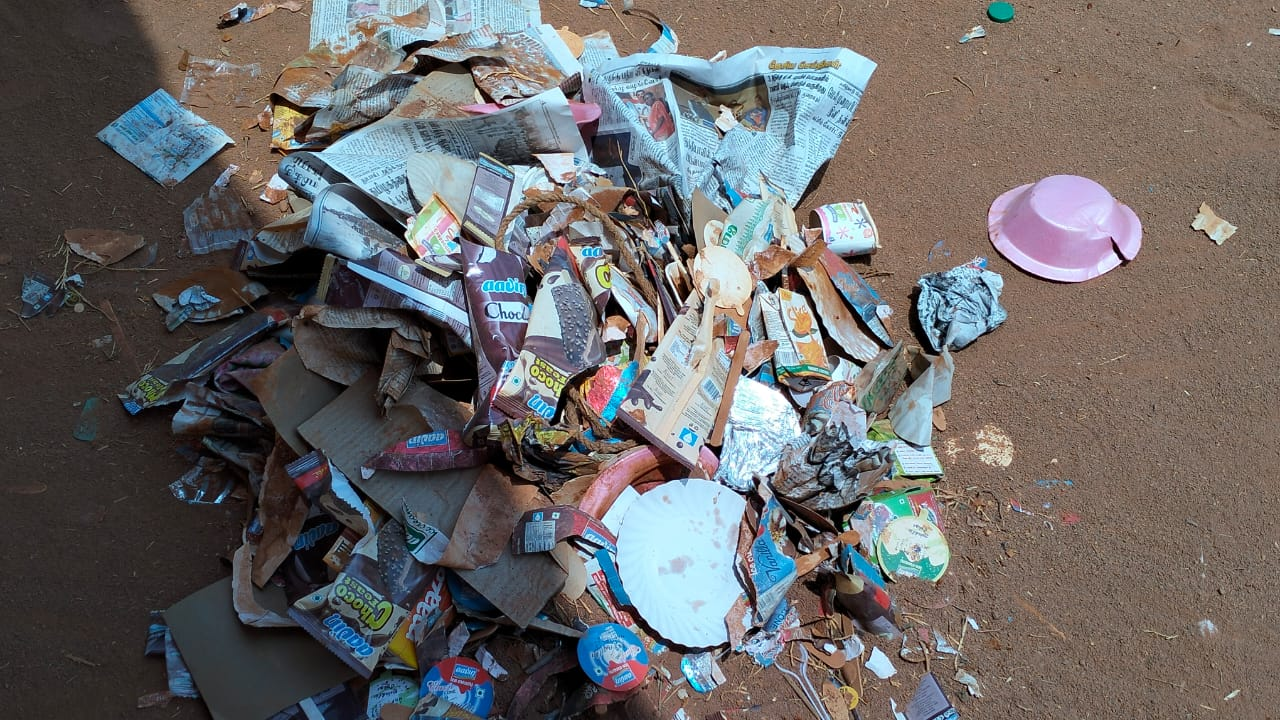plastic: (977, 163, 1152, 285)
